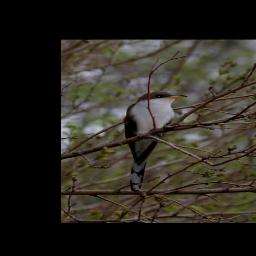Cuckoo: (122, 90, 188, 191)
